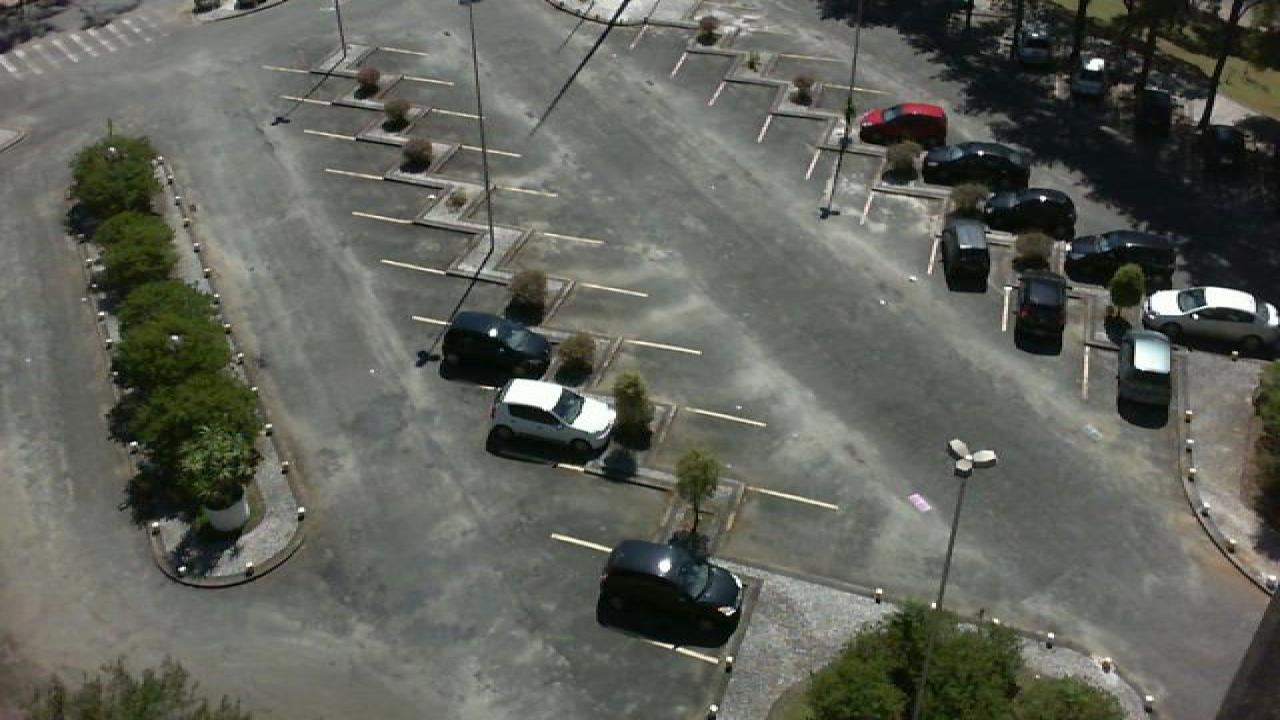Car: (598, 535, 740, 638), (490, 376, 620, 456), (1140, 282, 1280, 356), (434, 310, 552, 382), (1060, 227, 1178, 285), (1116, 328, 1174, 424), (920, 140, 1032, 186), (1012, 274, 1070, 356), (986, 187, 1078, 236), (856, 102, 948, 146), (940, 217, 992, 294)
